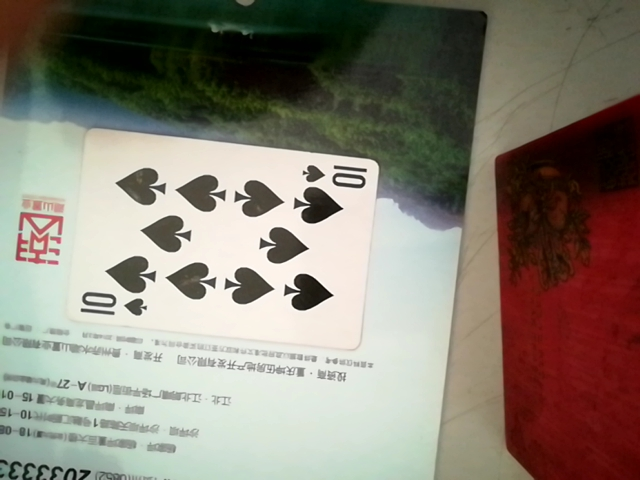ht 10: (44, 131, 381, 351)
